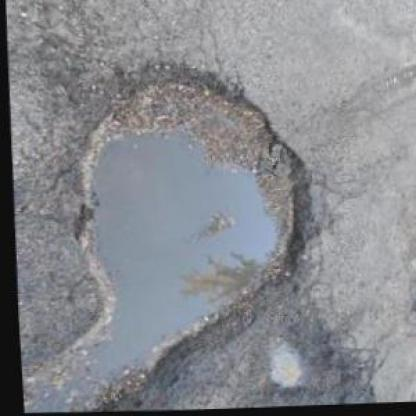pothole: (58, 55, 326, 369)
